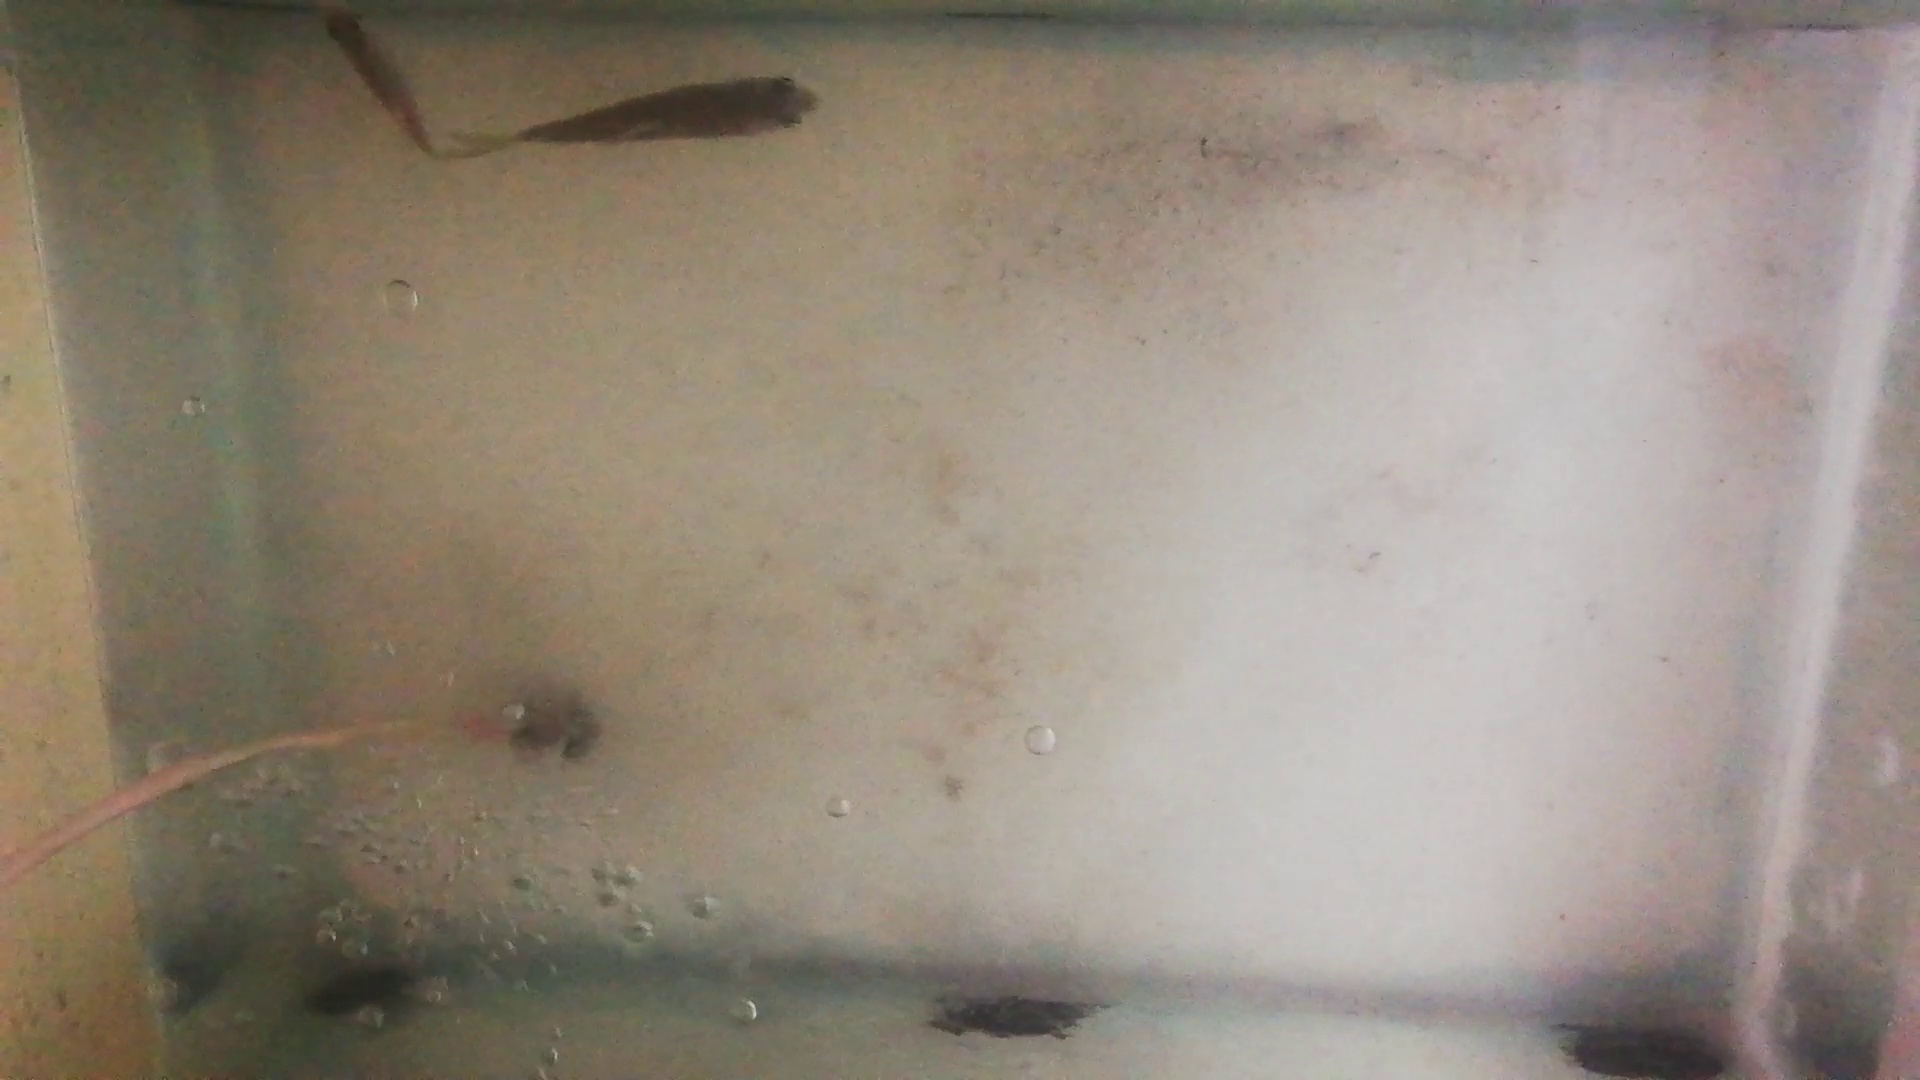fish: (517, 76, 825, 144), (320, 4, 430, 152)
